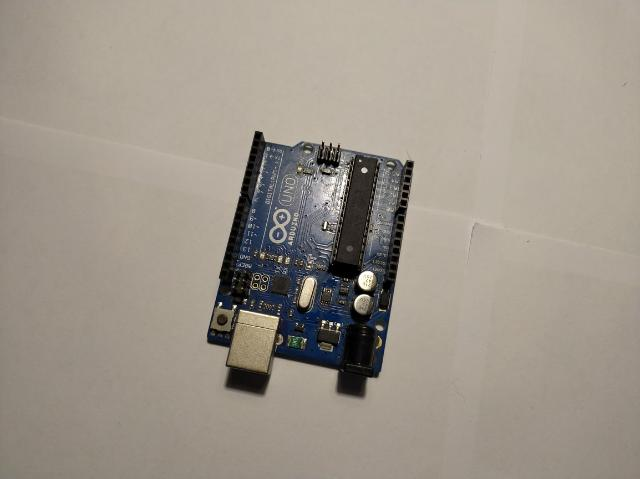arduino: (208, 131, 414, 379)
